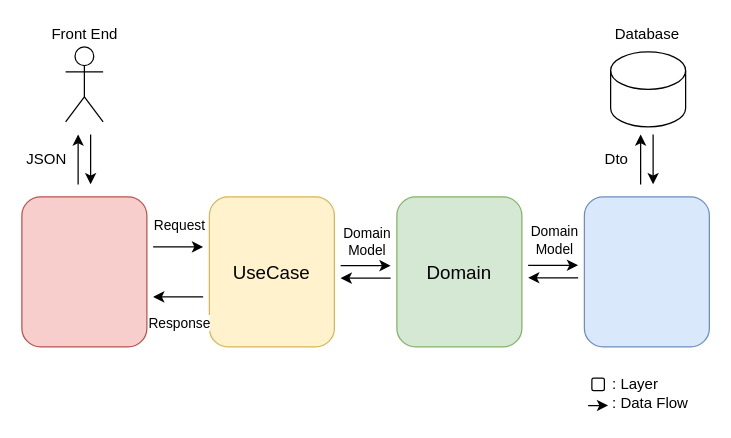
The diagram is 731 pixels wide and 438 high, and some of its shapes have lost their labels. Here are the shapes that lost their labels. From the top down, the centre of each, then its label:
[84,271]: Controller
[646,271]: Infrastructure
